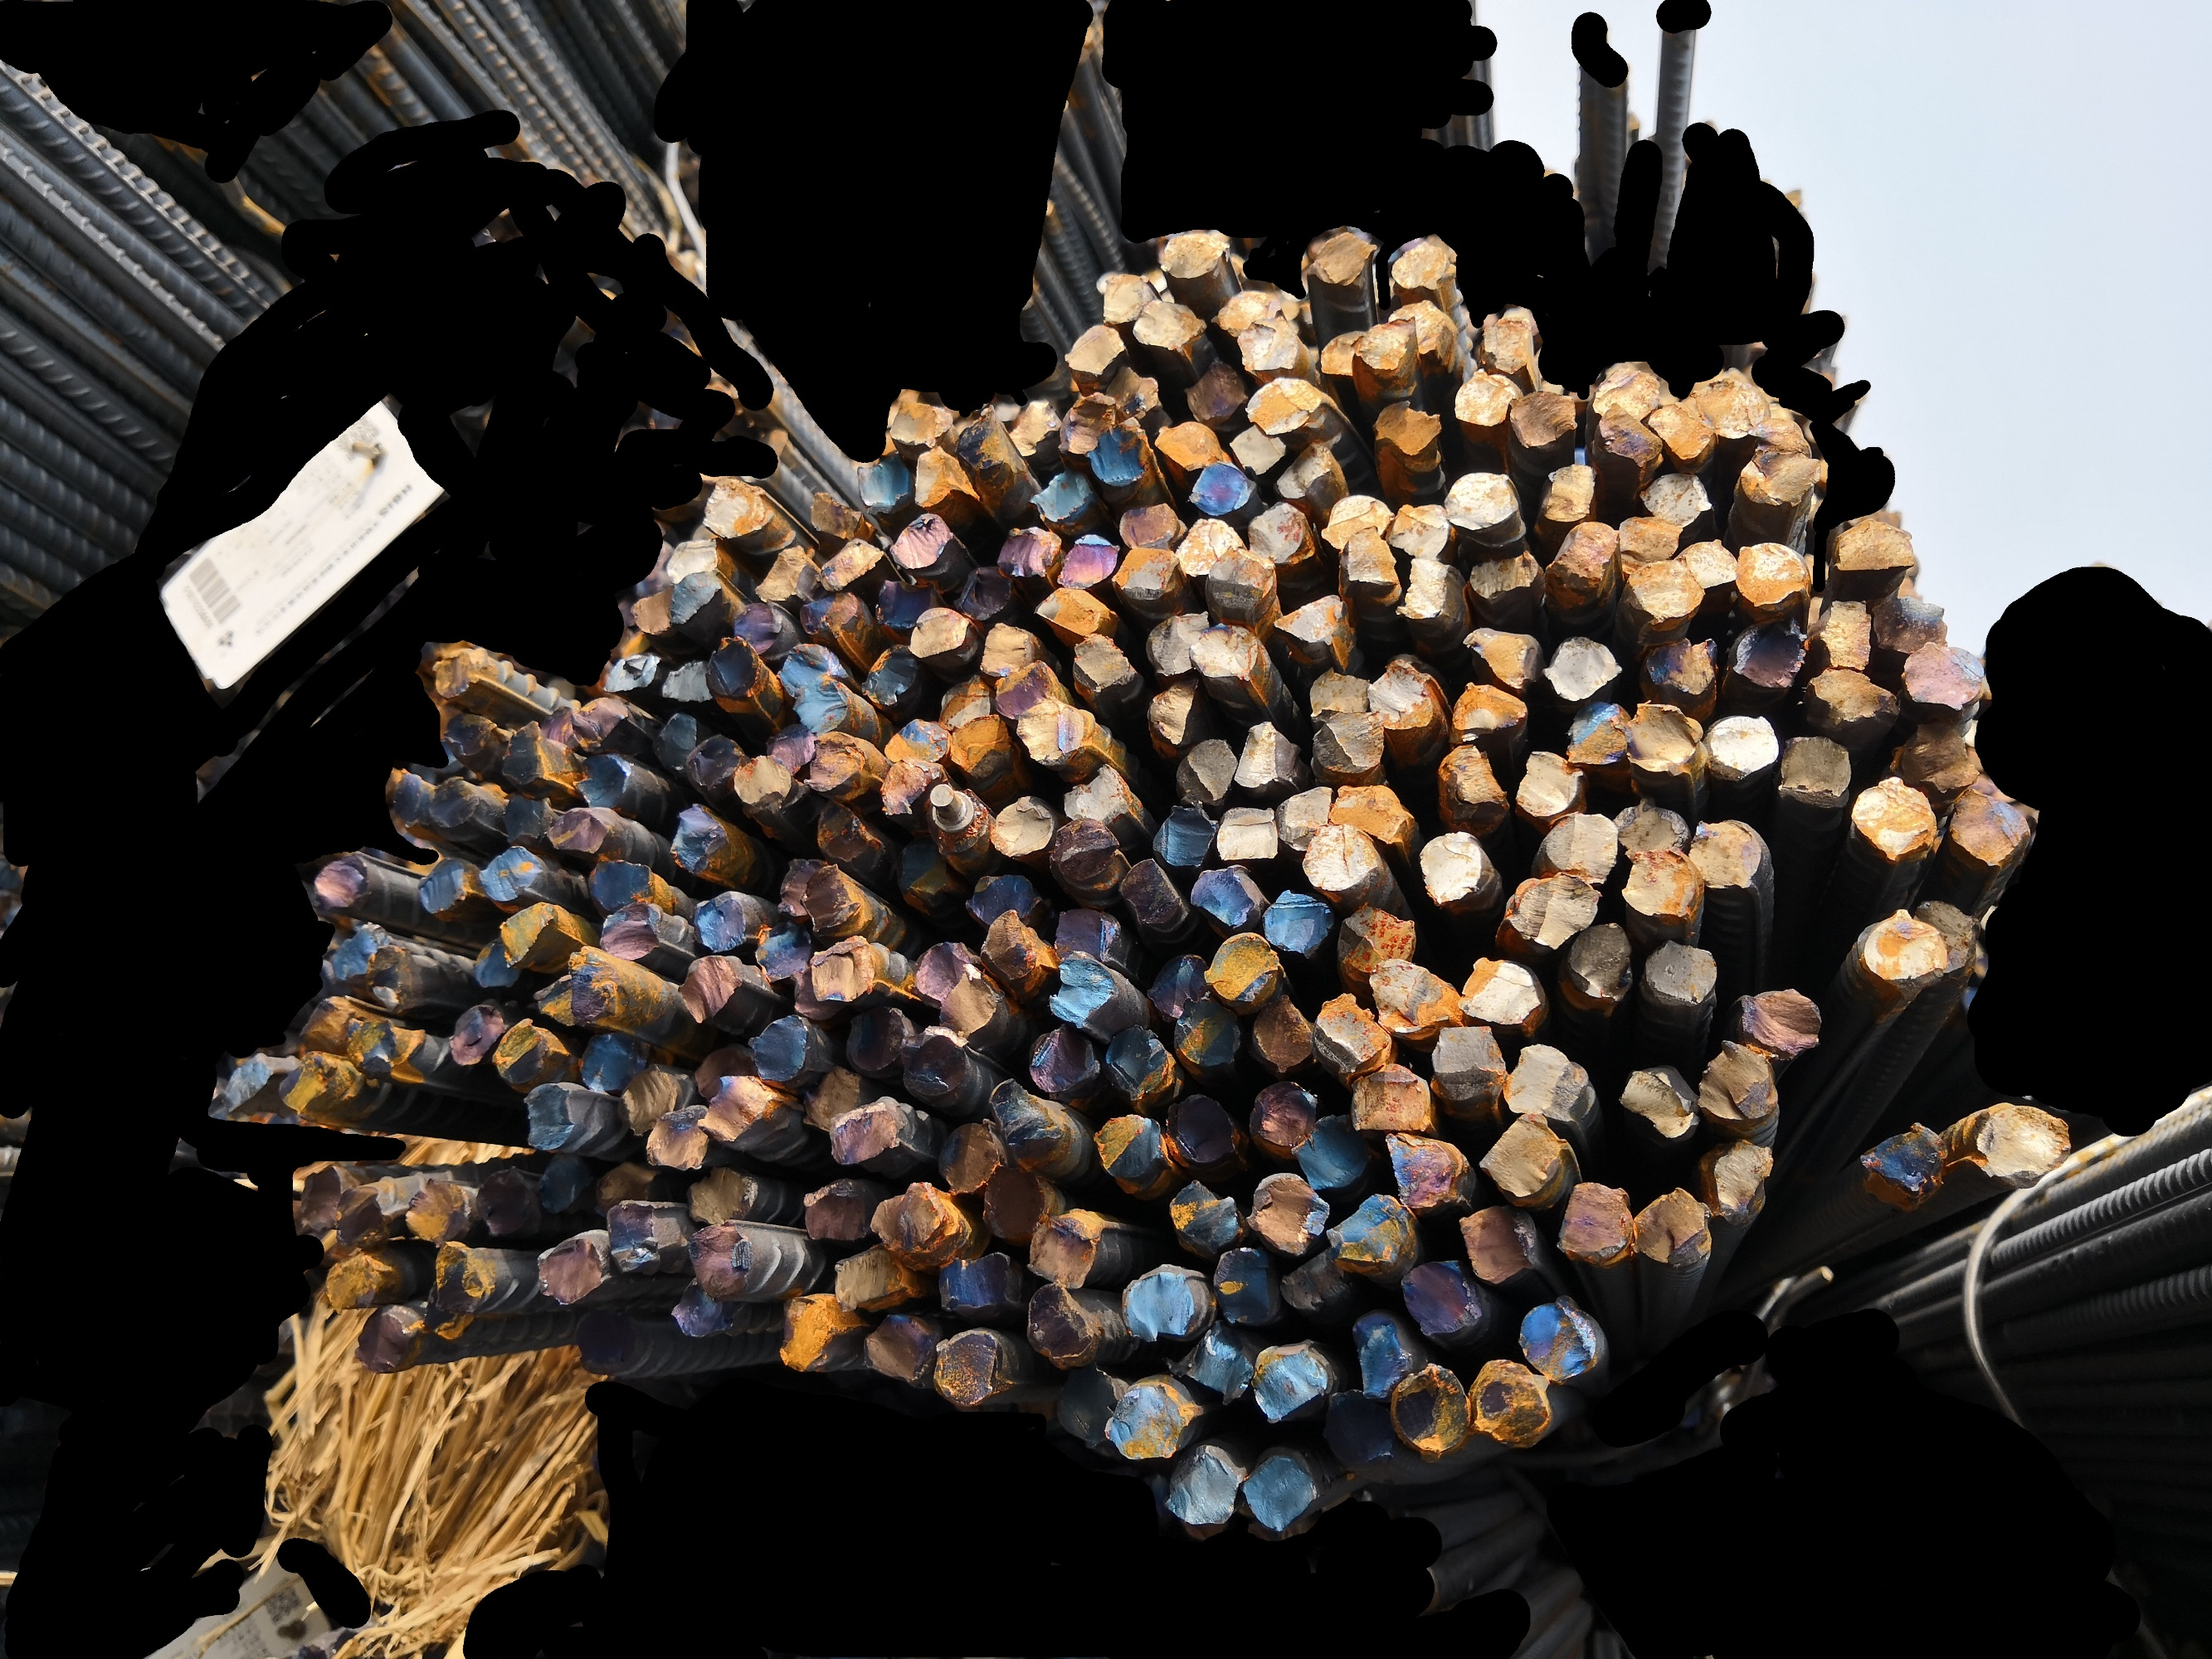rebar: (1961, 1096, 2076, 1188), (1858, 1119, 1956, 1209), (1849, 906, 1949, 992), (1478, 1112, 1572, 1199), (1389, 1364, 1471, 1462), (1849, 774, 1938, 863), (1517, 1293, 1604, 1384), (990, 1077, 1072, 1173), (1499, 873, 1602, 948), (1325, 1190, 1415, 1274), (1503, 1040, 1593, 1124), (1940, 788, 2032, 870), (1471, 1356, 1551, 1448), (872, 1178, 957, 1263), (1103, 1382, 1194, 1462), (777, 1291, 861, 1377), (1246, 1169, 1330, 1255), (1161, 1441, 1245, 1527), (1698, 1040, 1781, 1124), (1689, 816, 1773, 899), (1457, 953, 1550, 1028), (1890, 721, 1985, 793), (1382, 1131, 1468, 1211), (1632, 1185, 1712, 1270), (1252, 1337, 1328, 1425), (1564, 920, 1635, 1014), (1313, 990, 1391, 1075), (1626, 697, 1705, 782), (1734, 985, 1825, 1058), (1700, 1138, 1778, 1222), (1168, 1330, 1253, 1406), (1241, 1446, 1318, 1532), (1027, 1283, 1102, 1370), (1368, 960, 1455, 1035), (1457, 1206, 1539, 1284), (933, 1324, 1009, 1408), (1555, 1178, 1630, 1263), (1436, 742, 1511, 828), (1548, 519, 1619, 608), (1898, 641, 1987, 713), (1121, 1265, 1201, 1344), (1400, 1258, 1480, 1337), (1618, 1063, 1698, 1141), (1293, 1117, 1375, 1194), (1347, 1063, 1435, 1134), (1027, 1208, 1103, 1288), (1640, 938, 1720, 1014), (1623, 847, 1703, 924), (1909, 897, 1985, 978), (1048, 950, 1123, 1032), (1321, 1387, 1396, 1469), (1417, 829, 1494, 908), (685, 1218, 758, 1300), (1213, 1244, 1285, 1328), (1536, 812, 1619, 884), (1731, 443, 1823, 507), (1089, 1110, 1168, 1185), (1164, 1094, 1243, 1169), (1203, 929, 1281, 1004), (697, 1072, 779, 1143), (980, 908, 1044, 999), (936, 1251, 1020, 1321), (1703, 709, 1780, 784), (1727, 617, 1804, 692), (1302, 823, 1381, 896), (1541, 633, 1625, 701), (567, 945, 631, 1032), (830, 1094, 905, 1169), (1027, 1026, 1102, 1101), (1778, 734, 1853, 809), (1206, 545, 1279, 622), (1736, 540, 1813, 613), (899, 1025, 969, 1105), (1166, 1178, 1246, 1248), (1351, 1310, 1414, 1399), (1623, 558, 1705, 626), (1335, 906, 1419, 972), (1809, 666, 1900, 727), (1330, 784, 1415, 849), (1048, 819, 1123, 892), (1511, 748, 1586, 821), (279, 1051, 356, 1122), (1055, 1361, 1117, 1448), (1105, 1025, 1173, 1105), (1461, 626, 1541, 694), (1637, 636, 1719, 702), (535, 1232, 608, 1305), (1271, 592, 1356, 655), (1832, 519, 1917, 582), (863, 1310, 933, 1387), (1367, 659, 1436, 735), (1016, 699, 1095, 767), (833, 1246, 913, 1312), (1243, 373, 1325, 437), (1260, 887, 1333, 958), (1173, 997, 1243, 1072), (1431, 1025, 1506, 1094), (981, 1164, 1048, 1243), (601, 1195, 662, 1279), (1386, 296, 1459, 366), (1119, 857, 1185, 934), (1443, 469, 1520, 535), (1250, 995, 1314, 1073), (1335, 525, 1398, 605), (1145, 951, 1215, 1023), (342, 1016, 415, 1084), (1562, 699, 1630, 772), (1060, 762, 1135, 828), (1191, 622, 1265, 688), (1633, 471, 1717, 530), (1466, 549, 1544, 612), (1693, 378, 1771, 441), (1450, 680, 1530, 741), (809, 934, 879, 1004), (744, 1012, 812, 1084), (675, 955, 743, 1026), (800, 1175, 873, 1241), (1313, 711, 1386, 777), (683, 1162, 758, 1227), (1131, 298, 1208, 361), (938, 965, 999, 1044), (1051, 903, 1124, 967), (1234, 721, 1299, 795), (1279, 1249, 1353, 1314), (953, 403, 1011, 484), (1400, 556, 1462, 631), (1611, 796, 1689, 856), (701, 476, 770, 542), (910, 446, 980, 512), (1647, 401, 1717, 467), (495, 899, 560, 971), (948, 711, 1013, 782), (1056, 392, 1128, 457), (1246, 1080, 1318, 1145), (1593, 403, 1665, 467), (404, 1173, 467, 1246), (615, 1063, 678, 1136), (1089, 418, 1150, 493), (1370, 397, 1445, 458), (363, 941, 422, 1018), (1302, 230, 1379, 289), (804, 732, 872, 798), (1351, 315, 1417, 383), (1189, 864, 1257, 931), (490, 1016, 553, 1087), (1147, 803, 1218, 866), (579, 1032, 652, 1093), (938, 1119, 999, 1192), (1813, 598, 1874, 671), (669, 800, 729, 875), (776, 641, 852, 699), (645, 1105, 711, 1171), (880, 758, 947, 824), (1614, 512, 1682, 577), (298, 990, 361, 1060), (889, 511, 959, 573), (1072, 633, 1135, 702), (1175, 514, 1245, 577), (845, 1004, 906, 1075), (1450, 369, 1523, 429), (1320, 490, 1394, 547), (1874, 596, 1949, 653), (692, 1037, 758, 1101), (990, 795, 1055, 861), (1143, 608, 1208, 674), (328, 920, 396, 983), (572, 1310, 640, 1373), (924, 786, 987, 854), (1245, 500, 1313, 563), (434, 1243, 495, 1312), (1025, 465, 1095, 526), (1274, 784, 1335, 854), (1271, 443, 1342, 502), (584, 856, 657, 913), (1173, 741, 1238, 805), (322, 1249, 389, 1312), (859, 641, 920, 709), (894, 840, 955, 908), (912, 938, 973, 1006), (1510, 389, 1578, 450), (523, 1080, 580, 1152), (1590, 366, 1663, 422), (1159, 232, 1234, 286), (1182, 361, 1246, 423), (310, 849, 371, 915), (598, 901, 664, 962), (1388, 502, 1454, 563), (474, 1166, 532, 1236), (804, 1063, 861, 1133), (356, 1307, 411, 1378), (591, 1162, 662, 1218), (966, 873, 1044, 924), (748, 544, 812, 605), (816, 800, 877, 864), (1215, 803, 1279, 864), (335, 1182, 394, 1248), (415, 856, 474, 922), (1035, 587, 1116, 636), (798, 587, 866, 645), (706, 636, 762, 706), (800, 863, 856, 932), (818, 537, 887, 592), (1109, 547, 1178, 603), (1234, 317, 1304, 373), (478, 845, 540, 906), (1537, 462, 1598, 525), (753, 918, 812, 983), (1056, 530, 1121, 589), (1476, 314, 1536, 378), (446, 1002, 504, 1068), (692, 887, 750, 953), (671, 1279, 732, 1340), (730, 753, 791, 814), (791, 674, 856, 732), (1391, 239, 1455, 296), (573, 753, 640, 809), (1145, 678, 1201, 744), (1187, 462, 1255, 516), (1154, 420, 1229, 469), (535, 1152, 593, 1215), (952, 563, 1014, 620), (221, 1049, 277, 1114), (858, 450, 913, 514), (997, 525, 1062, 580), (1060, 322, 1126, 376), (298, 1159, 343, 1237), (497, 718, 547, 788), (572, 694, 631, 753), (995, 659, 1055, 718), (908, 605, 973, 659), (882, 716, 950, 767), (431, 645, 490, 702), (547, 805, 612, 857), (685, 734, 743, 791), (427, 774, 479, 836), (777, 854, 828, 918), (1306, 666, 1370, 716), (671, 570, 723, 631), (807, 490, 868, 542), (1227, 422, 1288, 474), (1677, 538, 1738, 591), (889, 399, 955, 446), (1211, 288, 1283, 331), (936, 674, 992, 730), (1107, 364, 1163, 420), (760, 721, 818, 775), (877, 577, 936, 629), (732, 596, 779, 660), (791, 964, 845, 1019), (422, 1283, 474, 1340), (980, 622, 1037, 674), (1008, 397, 1056, 458), (502, 793, 556, 847), (443, 713, 500, 763), (1117, 502, 1180, 547), (469, 934, 519, 990), (1102, 272, 1152, 328), (654, 711, 697, 775), (1316, 324, 1365, 382), (631, 586, 678, 640), (664, 537, 720, 582), (1748, 415, 1813, 453), (533, 971, 575, 1028), (605, 652, 662, 694), (661, 659, 713, 704), (392, 769, 425, 831), (540, 706, 580, 753)
